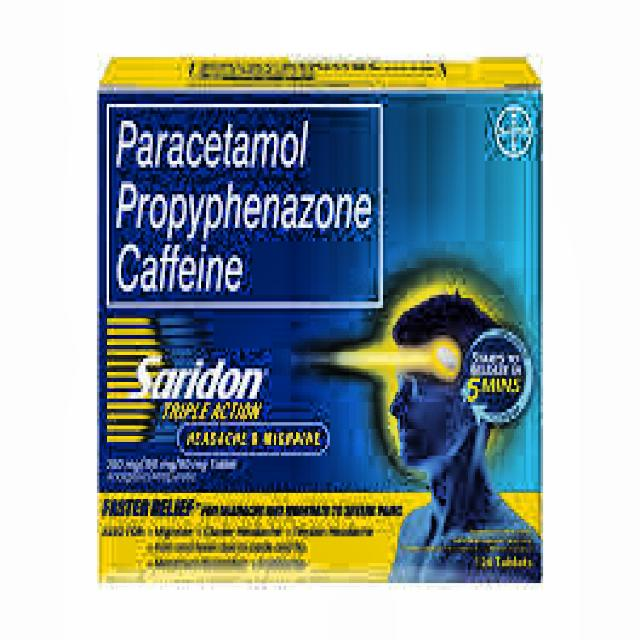Saridon: (95, 92, 538, 572)
